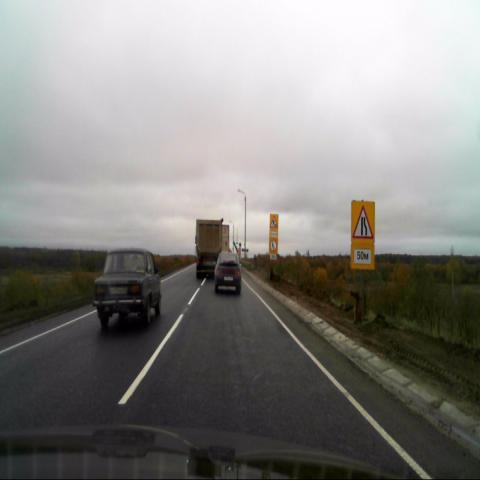8_1_1: (351, 245, 374, 268)
